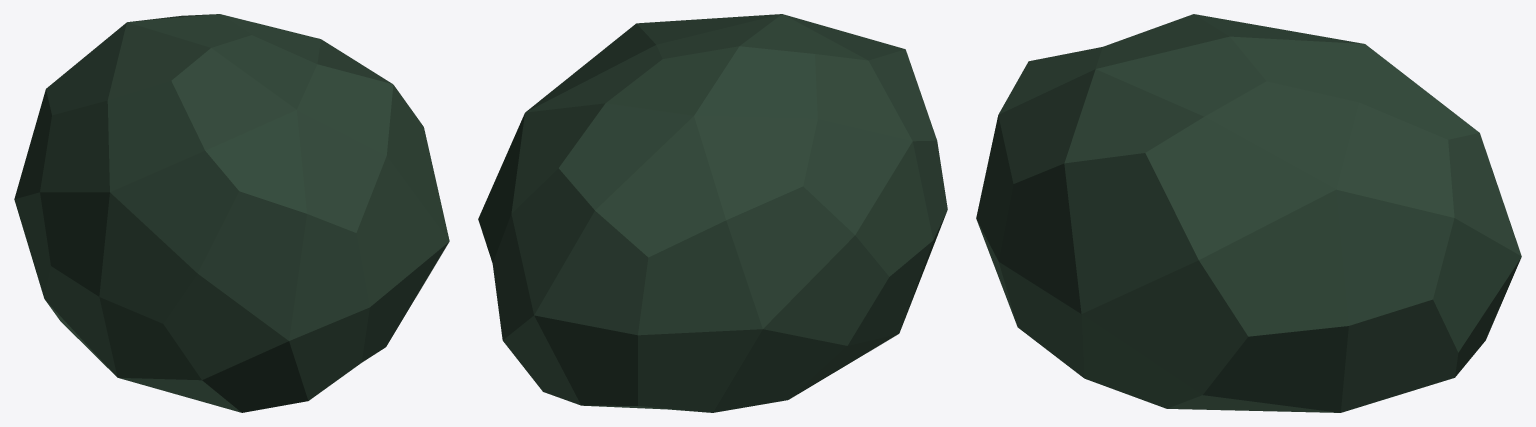
File: Rock3.obj
3 renders of one model, left to right at view 1: azimuth 30°, elevation 25°; view 2: azimuth 150°, elevation 25°; view 3: azimuth 270°, elevation 25°, orthographic. The views are drawn at different scales.
Parts seen in each view (by area): view 1: pasted__pasted__pasted__pasted__pPlatonic2 pasted__pasted__paste; view 2: pasted__pasted__pasted__pasted__pPlatonic2 pasted__pasted__paste; view 3: pasted__pasted__pasted__pasted__pPlatonic2 pasted__pasted__paste.
Part boxes in pixels (x1=…): pasted__pasted__pasted__pasted__pPlatonic2 pasted__pasted__paste: x1=14, y1=14, x2=449, y2=412; pasted__pasted__pasted__pasted__pPlatonic2 pasted__pasted__paste: x1=478, y1=14, x2=947, y2=412; pasted__pasted__pasted__pasted__pPlatonic2 pasted__pasted__paste: x1=976, y1=14, x2=1521, y2=412.
Size of the model in its own units: 4.42 by 3.53 by 5.33.
